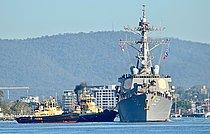MIL_Ship: (115, 4, 174, 122)
